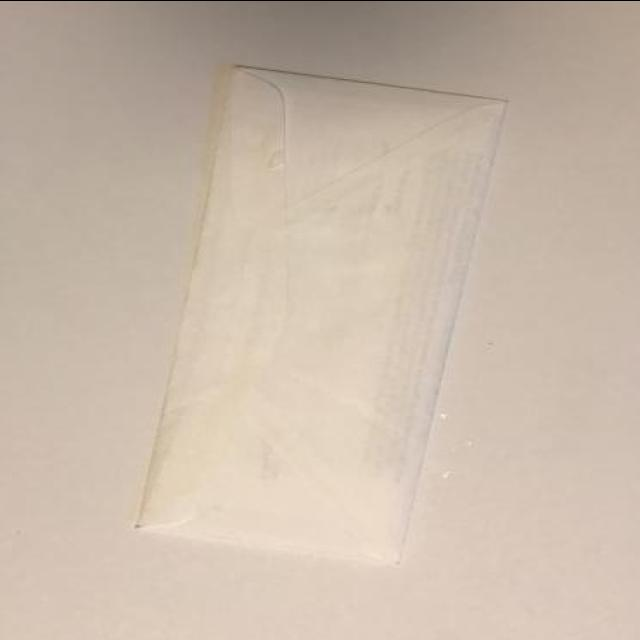kertas: (134, 60, 515, 572)
